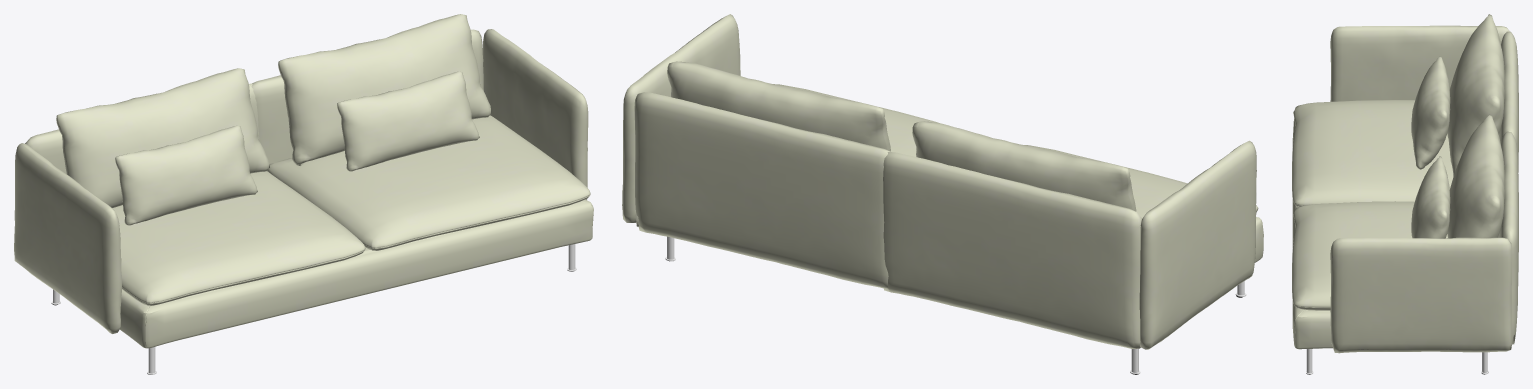
The model's file is soderhamn_sofa_3_osobowa_rozkadana_99621393.glb.
The picture shows the model from 3 angles, left to right: view 1: azimuth 30°, elevation 25°; view 2: azimuth 150°, elevation 25°; view 3: azimuth 270°, elevation 25°; orthographic projection. The views are drawn at different scales.
Parts seen in each view (by area): view 1: soderhamn_sofa_3_osobowa_rozkadana_99621393; view 2: soderhamn_sofa_3_osobowa_rozkadana_99621393; view 3: soderhamn_sofa_3_osobowa_rozkadana_99621393.
Boxes of the visible parts, x1=… form: soderhamn_sofa_3_osobowa_rozkadana_99621393: x1=14, y1=14, x2=593, y2=374; soderhamn_sofa_3_osobowa_rozkadana_99621393: x1=622, y1=14, x2=1263, y2=374; soderhamn_sofa_3_osobowa_rozkadana_99621393: x1=1292, y1=14, x2=1518, y2=374.
Bounding box in the file's own units: 2.26 × 0.8303 × 0.9901.
Materials: 6 (4 with a texture image).
